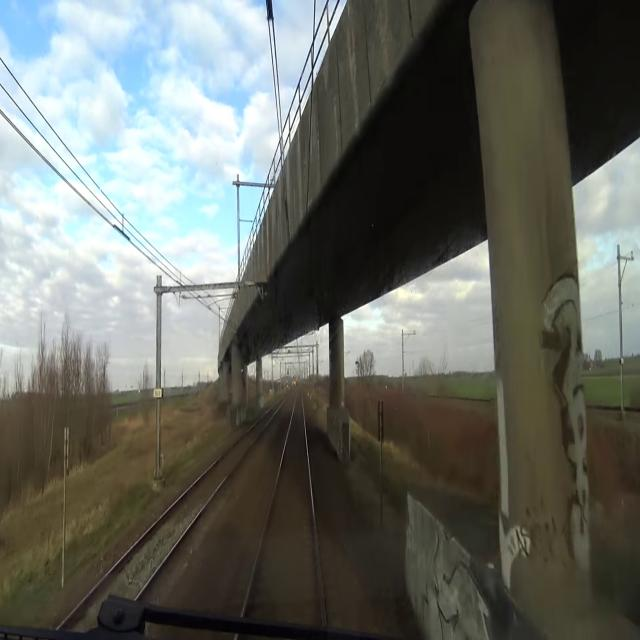rail-track: (53, 415, 269, 639), (244, 393, 322, 629)
